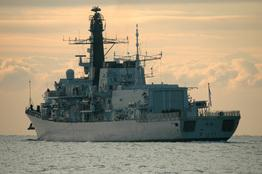warship: (25, 4, 241, 139)
